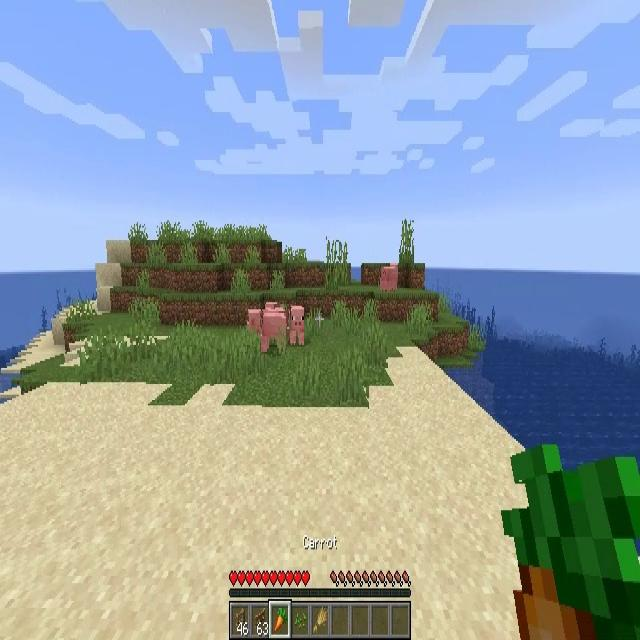pig: (260, 313, 286, 354), (290, 307, 304, 343), (249, 309, 261, 339)
